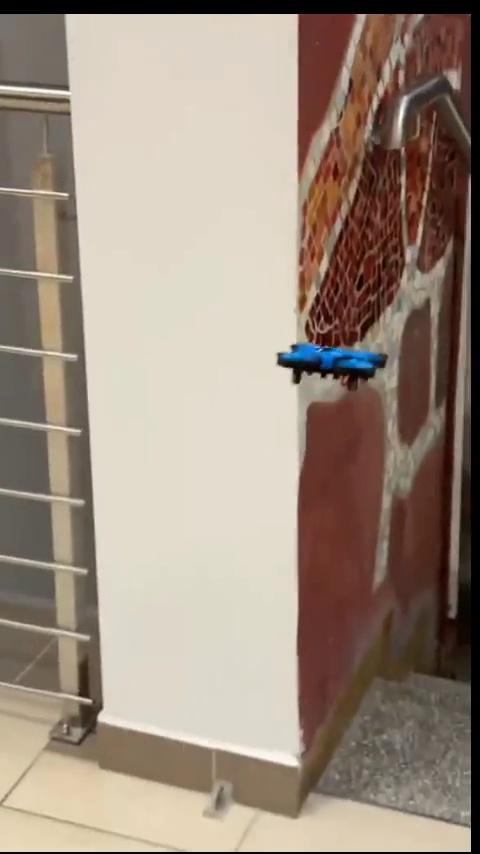drone: (274, 339, 387, 388)
